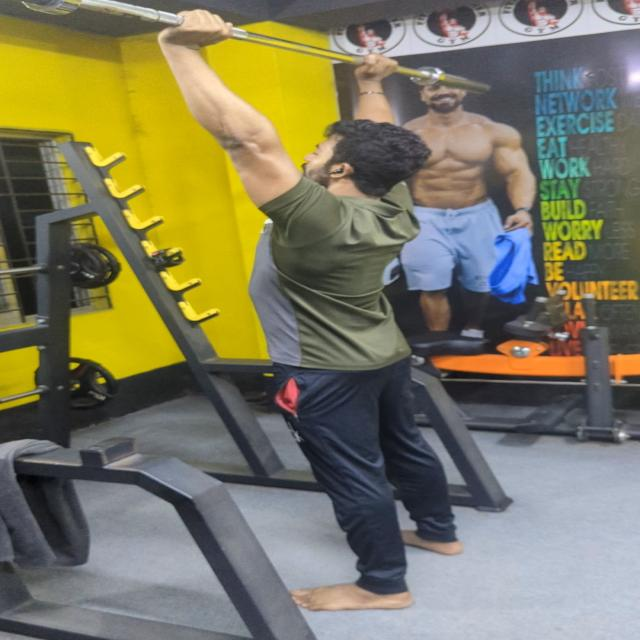Normal_OverheadPress: (95, 0, 529, 640)
